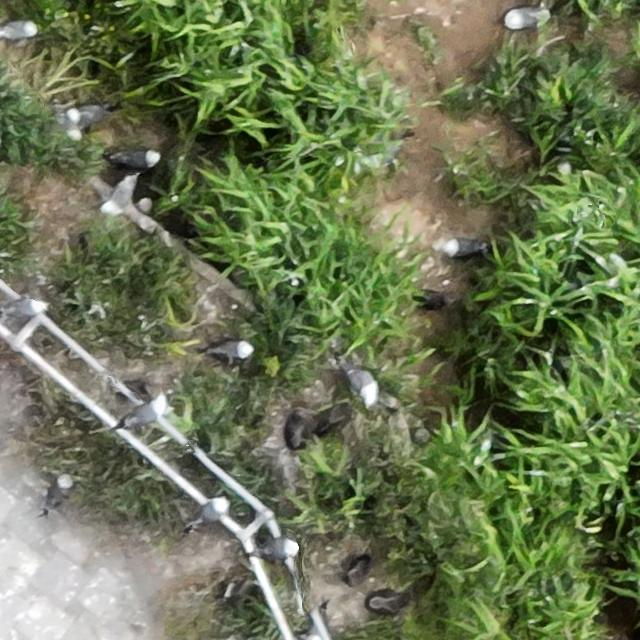umineko: (102, 174, 138, 216), (46, 472, 74, 513), (349, 366, 379, 403), (124, 400, 164, 423), (114, 149, 157, 168), (4, 299, 44, 318), (68, 107, 102, 129), (191, 503, 223, 526), (209, 341, 252, 358), (505, 8, 541, 28), (262, 538, 298, 558), (0, 20, 36, 39), (442, 238, 481, 255), (309, 612, 328, 639)
